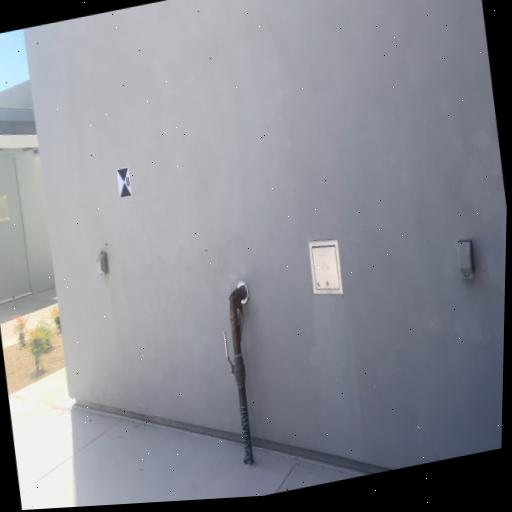target8: (114, 166, 134, 199)
